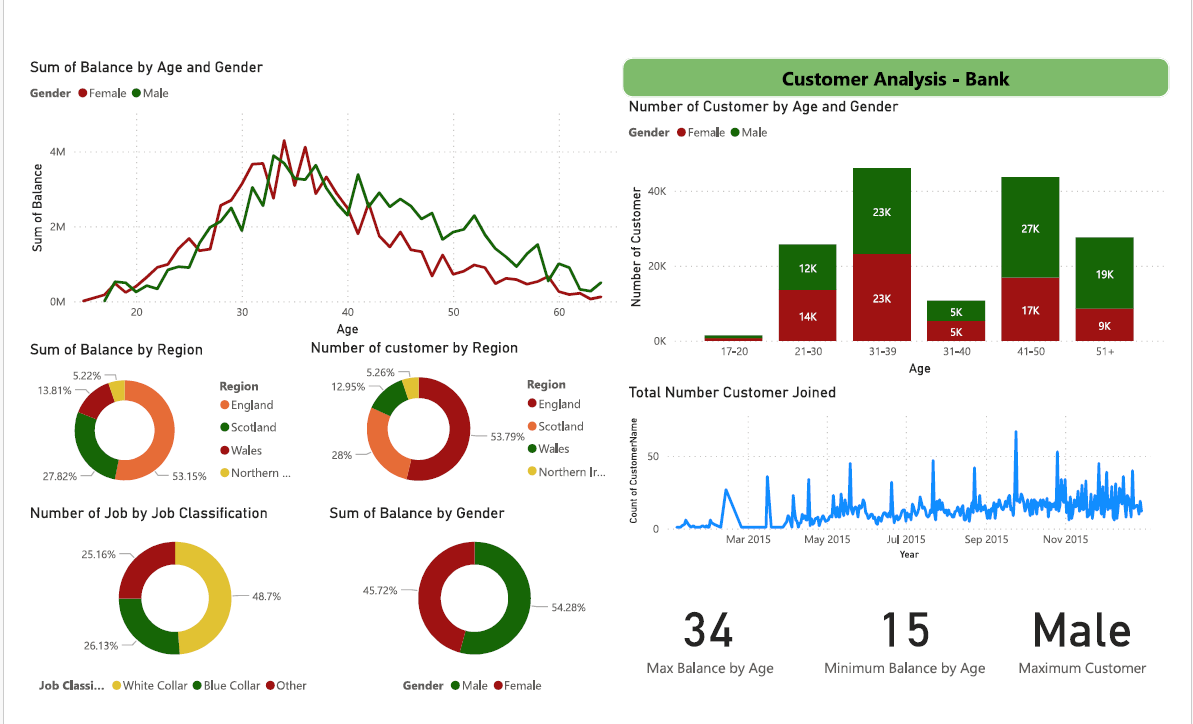

The dashboard page shown, as its layout file describes it:
{"tool":"powerbi","page":{"name":"Customer Analysis","canvas":[1280,720],"ordinal":0},"visuals":[{"type":"lineChart","fields":{"Category":["Bank.Age"],"Y":["Sum(Bank.Balance)"],"Series":["Bank.Gender"]},"box":[0,0,671,315.8],"z":0},{"type":"columnChart","fields":{"Category":["Bank.Age Group"],"Y":["Sum(Bank.Age)"],"Series":["Bank.Gender"]},"box":[670.3,44.1,609.7,315.9],"z":1000},{"type":"donutChart","fields":{"Category":["Bank.Region"],"Y":["CountNonNull(Bank.Region)"]},"box":[314.5,314.5,356.2,183.4],"z":2000},{"type":"donutChart","fields":{"Category":["Bank.Region"],"Y":["Sum(Bank.Balance)"]},"box":[0,315.7,314.5,183.4],"z":3000},{"type":"donutChart","fields":{"Category":["Bank.Job Classification"],"Y":["CountNonNull(Bank.Job Classification)"]},"box":[0,498.8,335.1,222.1],"z":4000},{"type":"donutChart","fields":{"Category":["Bank.Gender"],"Y":["Sum(Bank.Balance)"]},"box":[335.1,498.8,335.1,222.1],"z":5000},{"type":"lineChart","title":"Total Number Customer Joined","fields":{"Y":["CountNonNull(Bank.CustomerName)"],"Category":["Bank.Date Joined.Variation.Date Hierarchy.Year","Bank.Date Joined.Variation.Date Hierarchy.Quarter","Bank.Date Joined.Variation.Date Hierarchy.Month","Bank.Date Joined.Variation.Date Hierarchy.Day"]},"box":[670.3,363.6,609.7,203.8],"z":6000},{"type":"card","fields":{"Values":["Max(Bank.Age)"]},"box":[670.3,567.5,187.3,152.4],"z":7000},{"type":"card","fields":{"Values":["Max(Bank.Age)"]},"box":[883.3,567.5,202,152.4],"z":8000},{"type":"card","fields":{"Values":["Min(Bank.Gender)"]},"box":[1085.3,567.5,194.7,152.4],"z":9000},{"type":"shape","box":[668.5,0,611.5,44.1],"z":10000}]}

Visuals, with their boxes on the page's 1280x720 design canvas (x1, y1, x2, y2). These are canvas units, not pixel positions in the 1193x724 screenshot, which may show the page scaled, cropped or inside an application window:
lineChart - Bank.Age x Sum(Bank.Balance): 0, 0, 671, 316
columnChart - Bank.Age Group x Sum(Bank.Age): 670, 44, 1280, 360
donutChart - Bank.Region x CountNonNull(Bank.Region): 314, 314, 671, 498
donutChart - Bank.Region x Sum(Bank.Balance): 0, 316, 314, 499
donutChart - Bank.Job Classification x CountNonNull(Bank.Job Classification): 0, 499, 335, 721
donutChart - Bank.Gender x Sum(Bank.Balance): 335, 499, 670, 721
"Total Number Customer Joined" lineChart: 670, 364, 1280, 567
card - Max(Bank.Age): 670, 568, 858, 720
card - Max(Bank.Age): 883, 568, 1085, 720
card - Min(Bank.Gender): 1085, 568, 1280, 720
shape: 668, 0, 1280, 44
